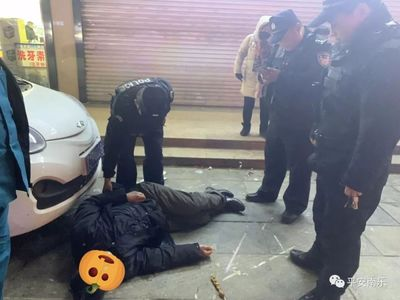fall: (59, 173, 249, 300)
